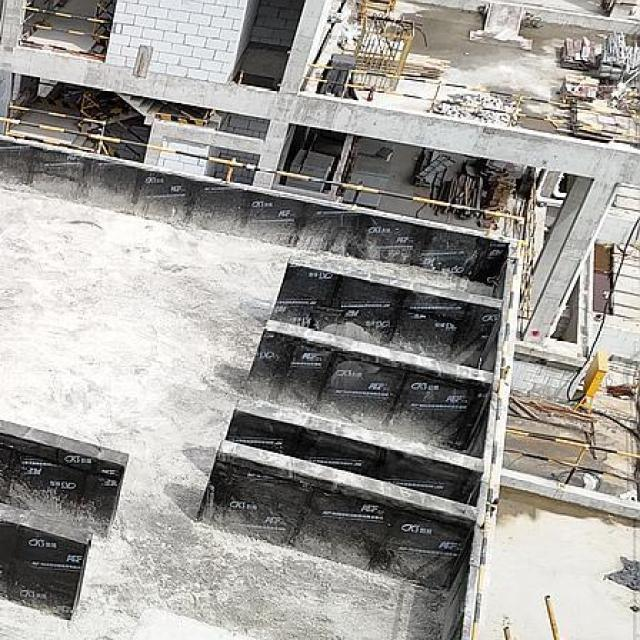edge_guardrail: (0, 115, 525, 640), (303, 62, 640, 144), (504, 428, 639, 486), (3, 105, 108, 156), (22, 5, 114, 59)
